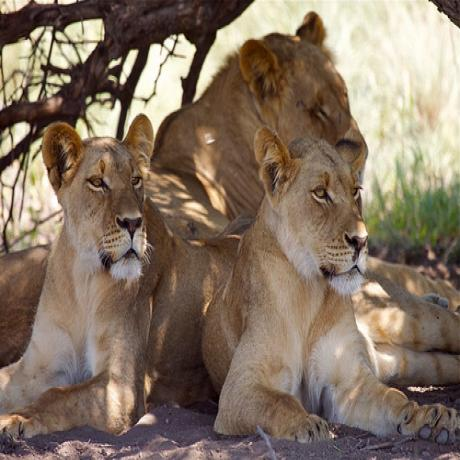Lion: (2, 112, 195, 458), (206, 129, 368, 443), (156, 9, 370, 171)
